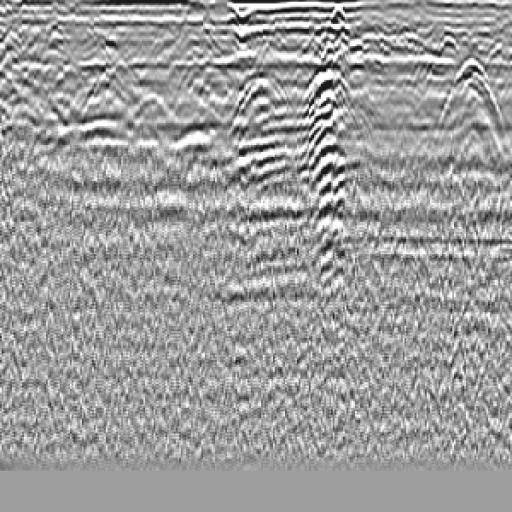metalic: (291, 5, 400, 296)
nonmetalic: (415, 47, 512, 178), (222, 57, 301, 136)
